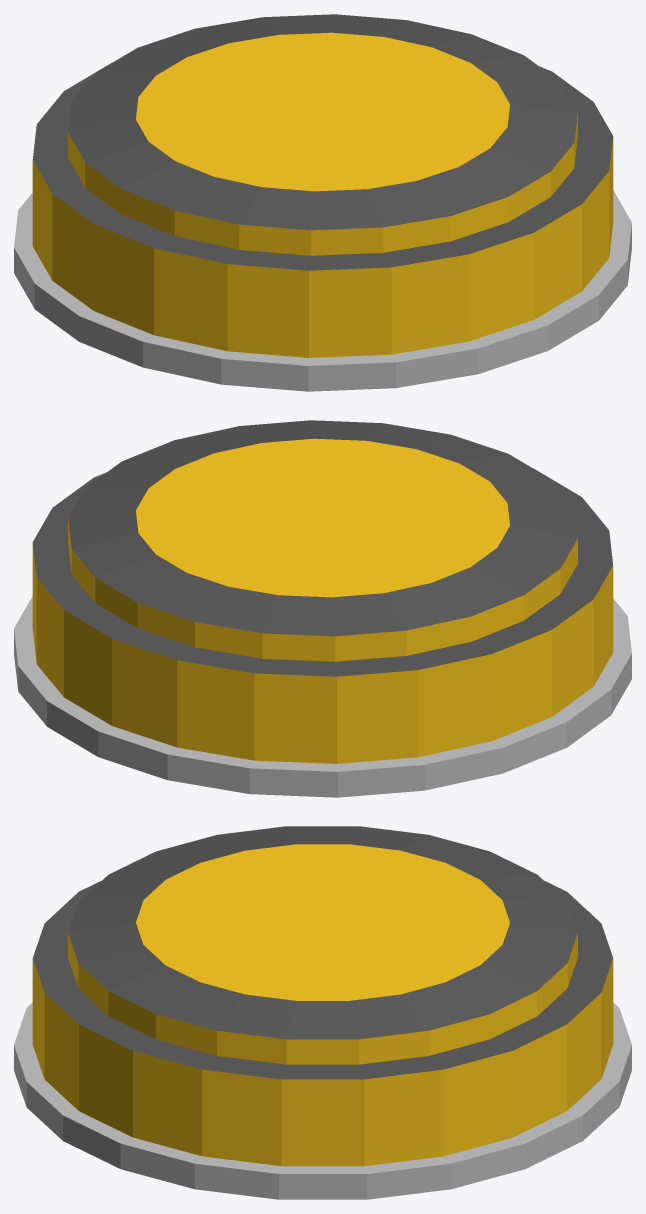
The model's file is Magnet2.fbx.
3 renders of one model, top to bottom at view 1: azimuth 30°, elevation 25°; view 2: azimuth 150°, elevation 25°; view 3: azimuth 270°, elevation 25°, orthographic.
Visible parts, largest first — view 1: Cylinder.006, Cylinder.007; view 2: Cylinder.006, Cylinder.007; view 3: Cylinder.006, Cylinder.007.
Part boxes in pixels (x1,y1,x2,y2): Cylinder.006: (32,14,613,357); Cylinder.007: (14,190,631,391); Cylinder.006: (32,420,613,763); Cylinder.007: (14,596,631,797); Cylinder.006: (32,826,613,1166); Cylinder.007: (14,1003,631,1199).
Bounding box in the file's own units: 198 × 52.83 × 200.
Materials: 2 (2 with a texture image).
